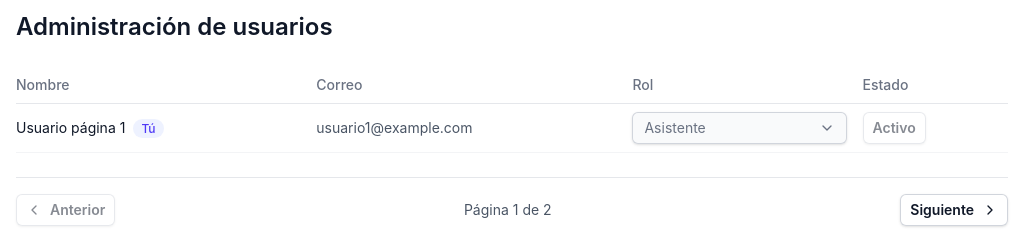
AdminUsersPage › muestra el listado paginado de usuarios (Admin)
The image size is (1025, 244).
Check: the text "Usuario página 1" is shown, box [16,119,125,136]
Check: the text "Página 1 de 2" is shown, box [464,200,552,220]
Click the button "Siguiente" at coordinates (954, 210), box [900,194,1008,226]
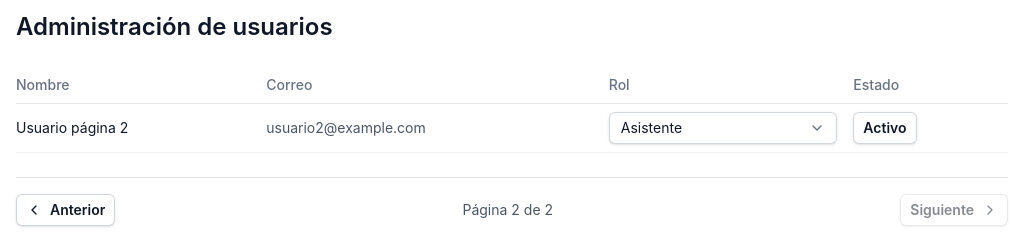
Check: the text "Usuario página 2" is shown, box [16,104,266,152]
Check: the text "Página 2 de 2" is shown, box [462,200,553,220]
